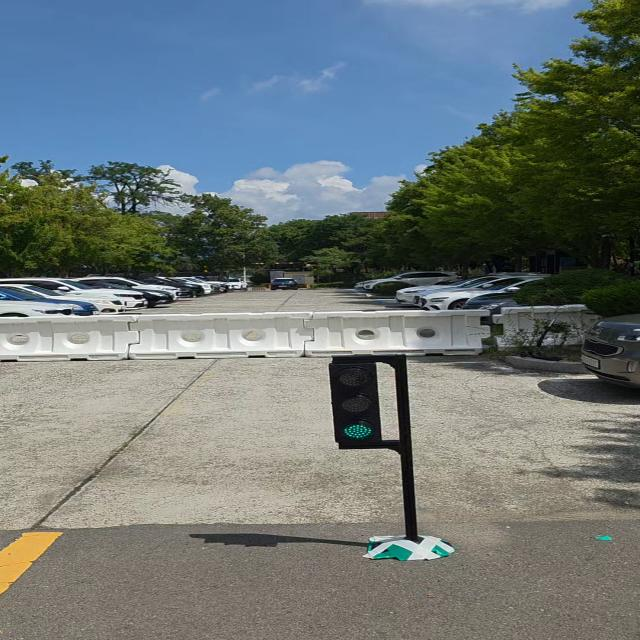green: (327, 362, 384, 450)
